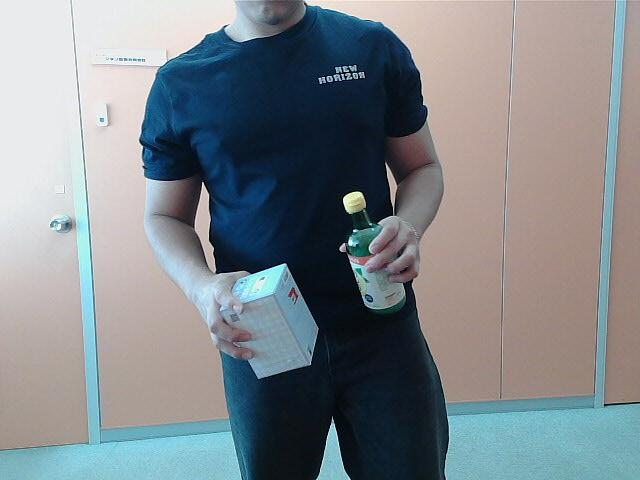Blind_box: (229, 265, 319, 380)
Lemon_sapporo: (341, 188, 406, 320)
